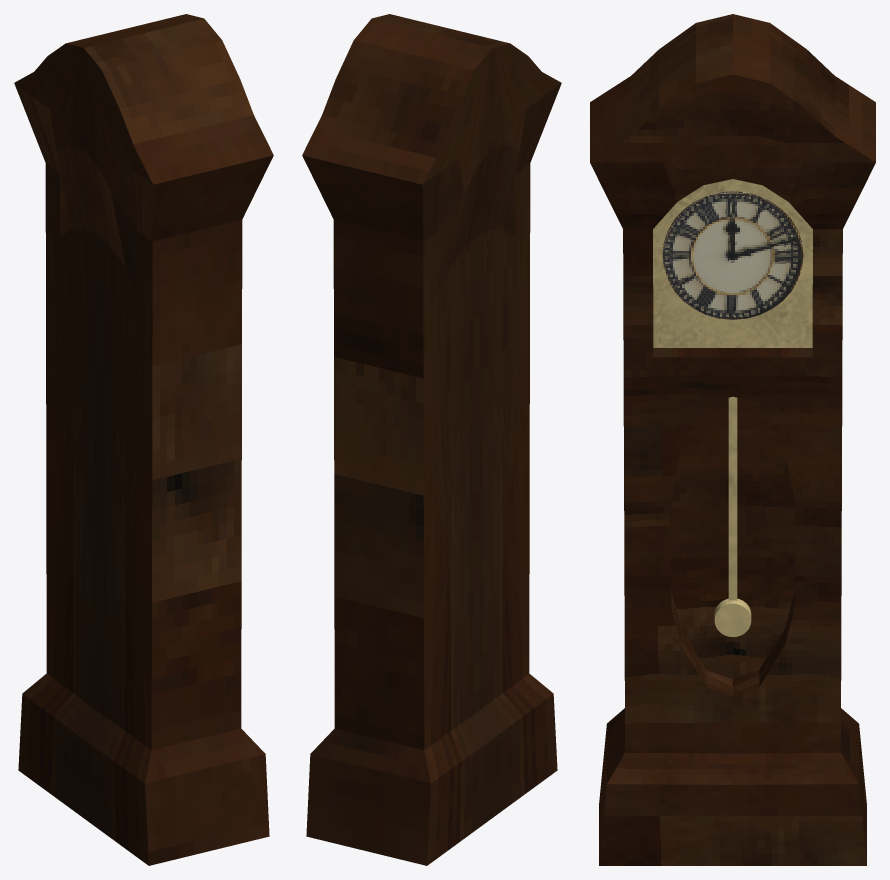
The model's file is GrandfatherClock.glb.
3 renders of one model, left to right at view 1: azimuth 30°, elevation 25°; view 2: azimuth 150°, elevation 25°; view 3: azimuth 270°, elevation 25°, orthographic. The views are drawn at different scales.
Parts seen in each view (by area): view 1: GrandfatherClock; view 2: GrandfatherClock; view 3: GrandfatherClock.
Part boxes in pixels (bbox=[...]): GrandfatherClock: bbox=[14, 14, 273, 865]; GrandfatherClock: bbox=[302, 14, 561, 865]; GrandfatherClock: bbox=[590, 14, 875, 865].
Size of the model in its own units: 0.3035 by 1.85 by 0.6063.
2 materials, 2 textured.
